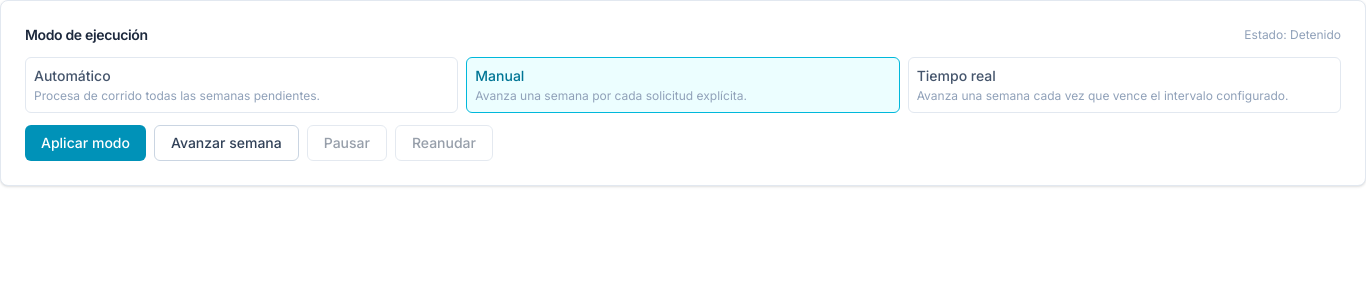
Test case: PanelModoEjecucion (Req. 32) › muestra el campo de intervalo solo en Tiempo_Real (Req. 32.5)
Expected: the field labelled "intervalo por semana simulada" is not shown
Click the radio button labelled "Tiempo real" at (1124, 85), box [908, 57, 1341, 113]
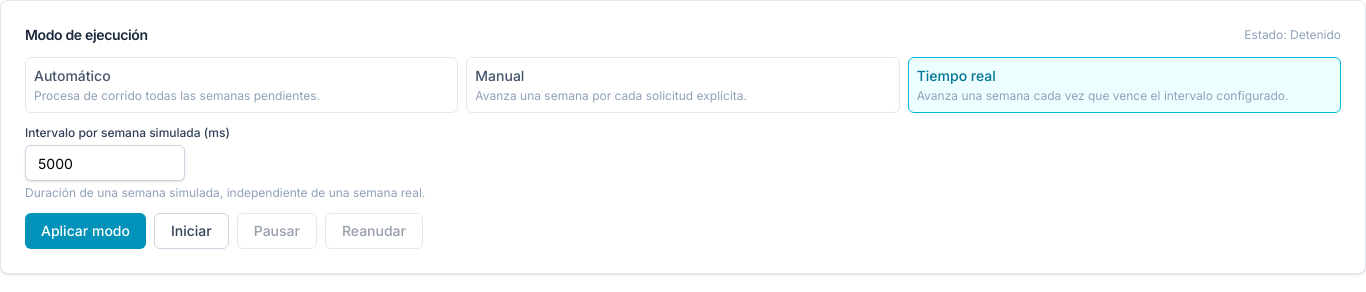
Now the number field labelled "Intervalo por semana simulada (ms)" is shown, box [25, 145, 185, 181]
